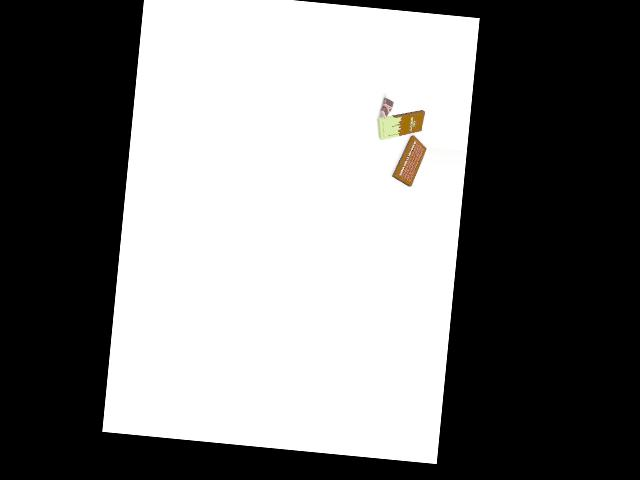chocolate: (374, 109, 425, 141)
